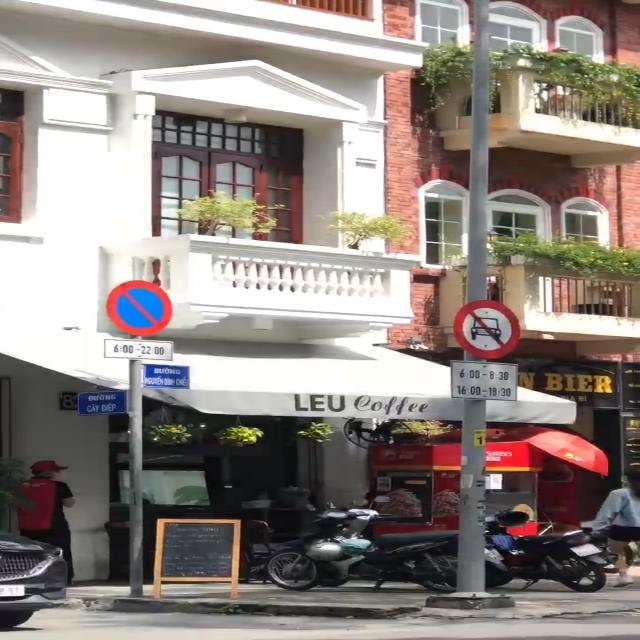Bien bao cam do xe: (102, 278, 178, 338)
Bien bao cam xe oto: (452, 298, 527, 361)
